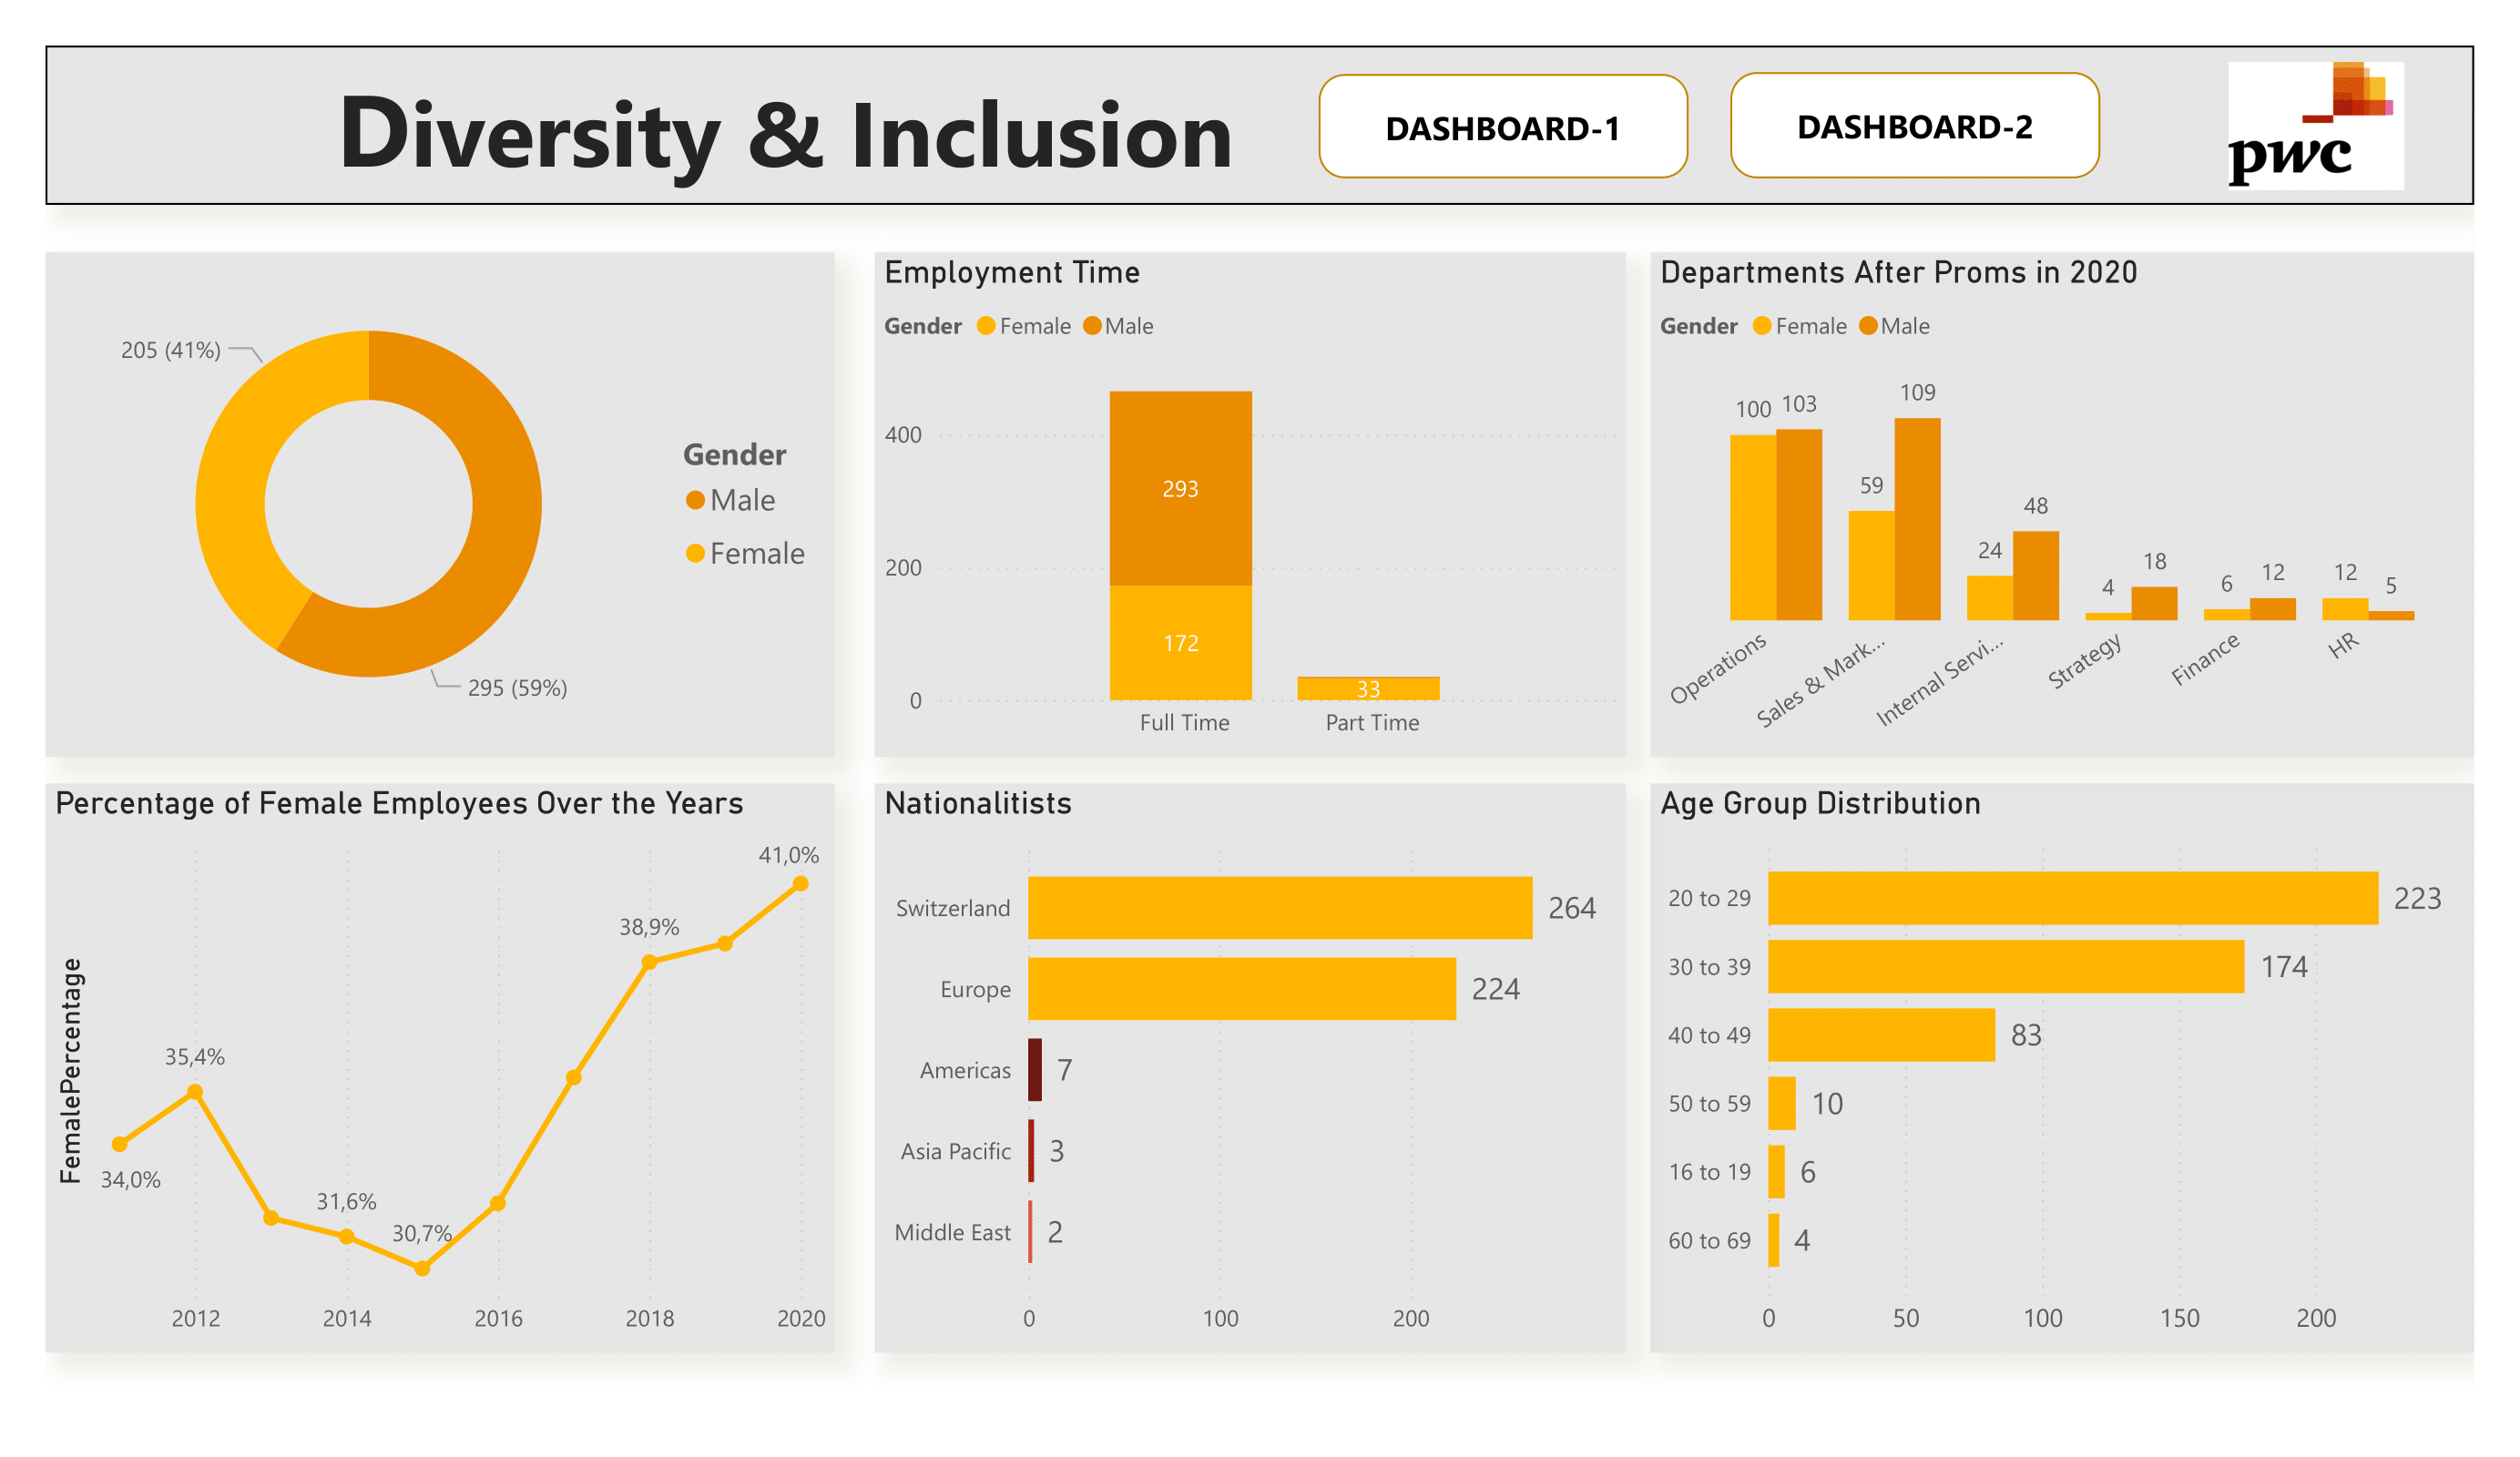

The dashboard page shown, as its layout file describes it:
{"tool":"powerbi","page":{"name":"Seite 1","canvas":[1280,720],"ordinal":0},"visuals":[{"type":"textbox","box":[10,0,280,280],"z":0},{"type":"textbox","box":[0,0,1280,84.3],"z":3,"group":"g1"},{"type":"image","box":[1112.5,4.3,167.5,76.8],"z":12,"group":"g1"},{"type":"group","id":"g1","title":"Gruppe 1","box":[0,0,1280,84.3],"z":1000},{"type":"barChart","title":"Age Group Distribution","fields":{"Category":["Pharma Group AG.Age group"],"Y":["CountNonNull(Pharma Group AG.Age group)"]},"box":[845.6,389.1,434.4,299.6],"z":2000},{"type":"columnChart","title":"Employment Time","fields":{"Category":["Div_Inc.Time type"],"Y":["CountNonNull(Div_Inc.Time type)"],"Series":["Div_Inc.Gender"]},"box":[436.6,109.4,396.8,265.3],"z":3000},{"type":"donutChart","fields":{"Category":["Div_Inc.Gender"],"Y":["CountNonNull(Div_Inc.Gender)"]},"box":[0,109.4,415.6,265.3],"z":4000},{"type":"lineChart","title":"Percentage of Female Employees Over the Years","fields":{"Category":["Div_Inc.Last hire date.Variation.Datumshierarchie.Jahr"],"Y":["Div_Inc.FemalePercentage"]},"box":[0,389.1,415.6,299.6],"z":7000},{"type":"clusteredBarChart","title":"Nationalitists","fields":{"Category":["Div_Inc.Region group: nationality 1","Div_Inc.Gender"],"Y":["CountNonNull(Div_Inc.Region group: nationality 1)"]},"box":[436.6,389.1,396.8,299.6],"z":8000},{"type":"shape","title":"OVERVIEW","box":[887.6,14.4,195.6,55.3],"z":9000},{"type":"shape","title":"hfhfhg","box":[671.1,14.6,195.2,55.4],"z":10000},{"type":"clusteredColumnChart","title":"Departments After Proms in 2020","fields":{"Category":["Div_Inc.Last Department in FY20"],"Y":["CountNonNull(Div_Inc.Last Department in FY20)"],"Series":["Div_Inc.Gender"]},"box":[845.6,109.4,434.4,265.3],"z":11000}]}

Visuals, with their boxes in screenshot pixels (x1, y1, x2, y2):
textbox: [left=65, top=46, right=596, bottom=576]
textbox: [left=46, top=46, right=2474, bottom=206]
image: [left=2157, top=54, right=2474, bottom=199]
"Gruppe 1" group: [left=46, top=46, right=2474, bottom=206]
"Age Group Distribution" barChart: [left=1650, top=784, right=2474, bottom=1352]
"Employment Time" columnChart: [left=874, top=253, right=1627, bottom=757]
donutChart - Div_Inc.Gender x CountNonNull(Div_Inc.Gender): [left=46, top=253, right=834, bottom=757]
"Percentage of Female Employees Over the Years" lineChart: [left=46, top=784, right=834, bottom=1352]
"Nationalitists" clusteredBarChart: [left=874, top=784, right=1627, bottom=1352]
"OVERVIEW" shape: [left=1729, top=73, right=2101, bottom=178]
"hfhfhg" shape: [left=1319, top=73, right=1689, bottom=178]
"Departments After Proms in 2020" clusteredColumnChart: [left=1650, top=253, right=2474, bottom=757]
